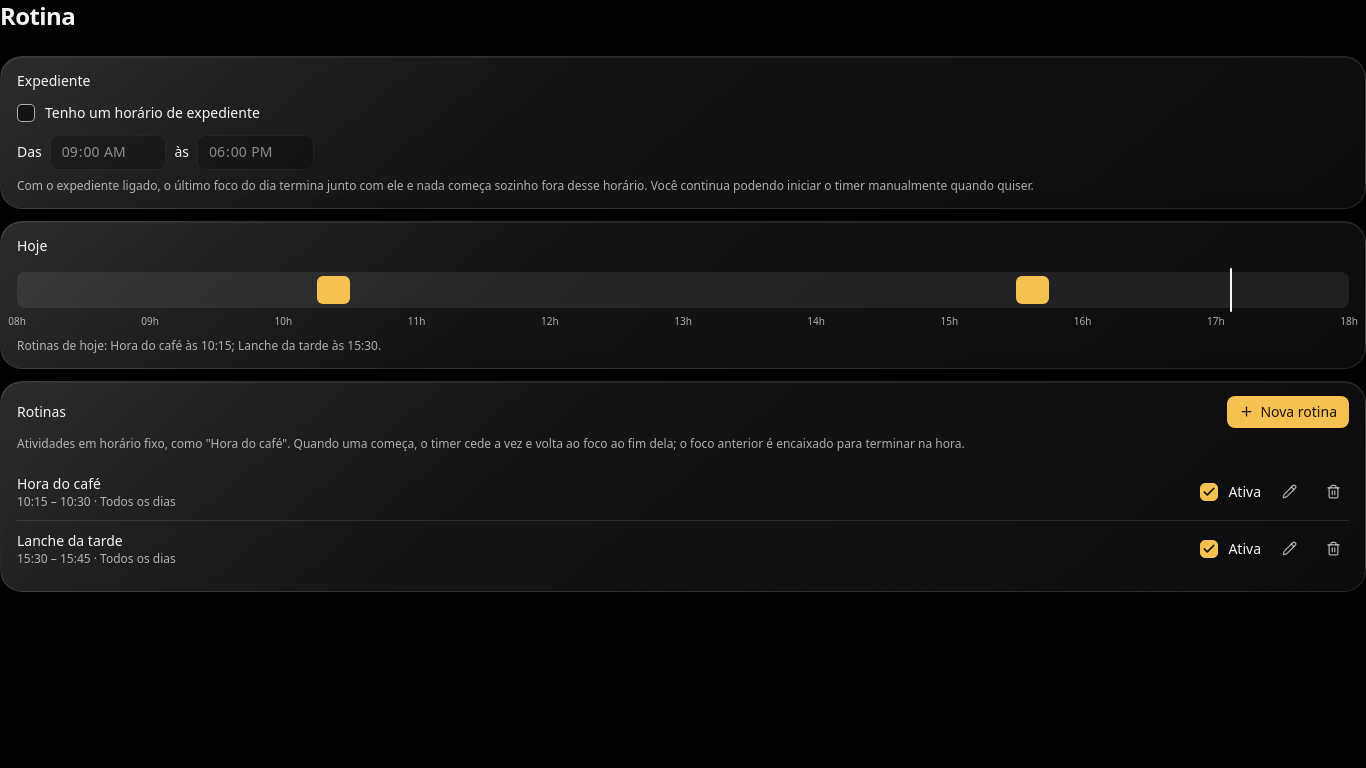
Test: RoutinesPage › cria uma rotina pelo diálogo
Click the button "Nova rotina".
click(1288, 412)  # box [1227, 396, 1349, 428]
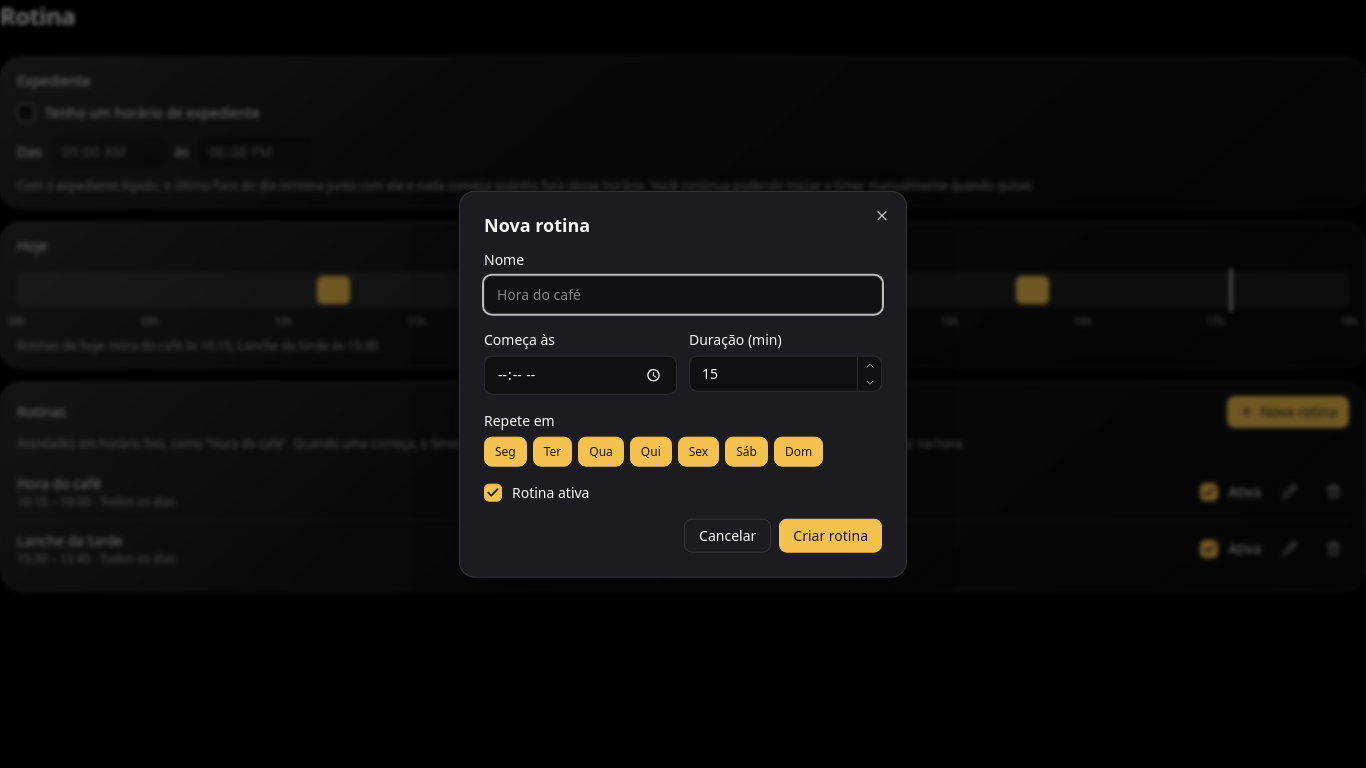
Type " Almoço " into the field labelled "Nome".
click(683, 295); type(" Almoço ")  # box [484, 276, 882, 314]
Type "12:00" into the time field labelled "Começa às".
click(580, 375); type("12:00")  # box [484, 356, 677, 394]
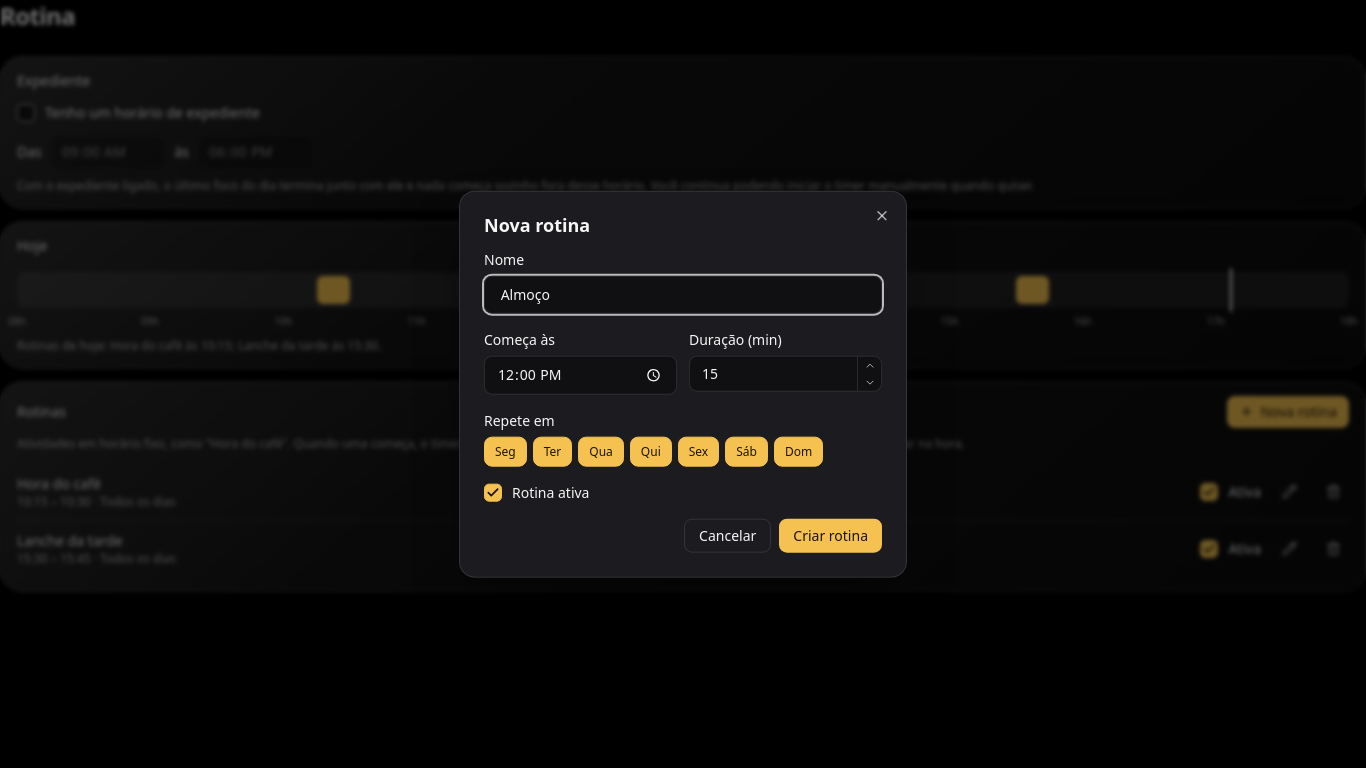
Replace the text in the number field labelled "Duração (min)" with "60" at x=774, y=374, box [690, 357, 857, 391]
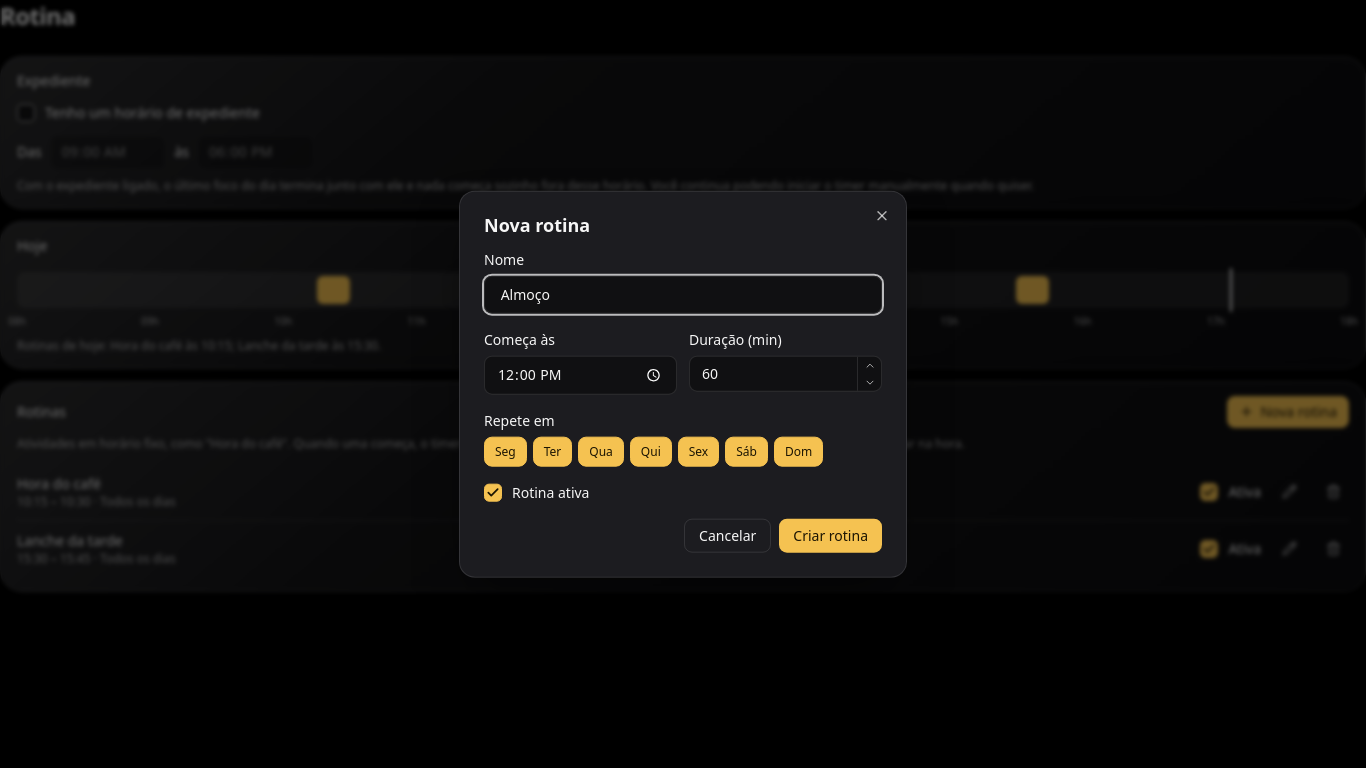
# Só em dias úteis: desliga sábado e domingo.
Click the button with aria-label "Sábado".
click(747, 451)  # box [725, 436, 768, 466]
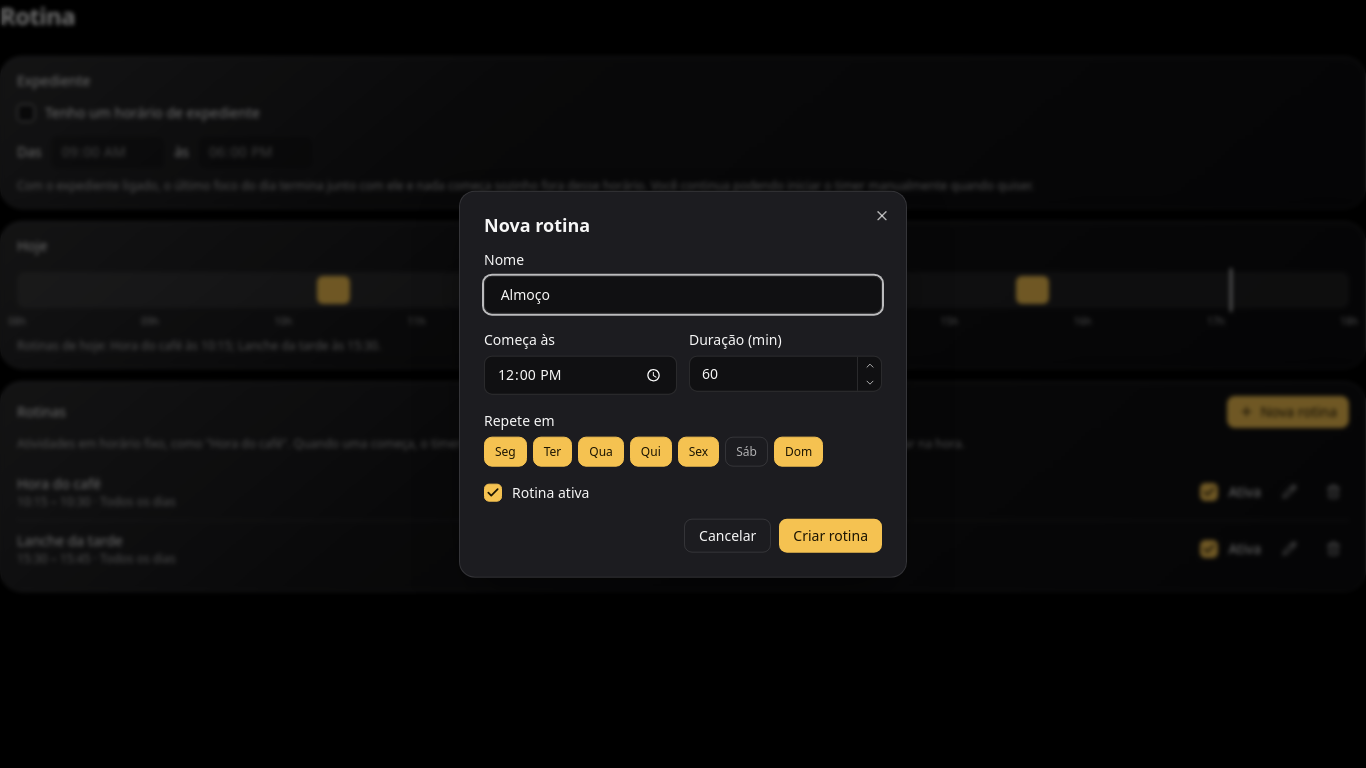
Click the button with aria-label "Domingo".
click(799, 451)  # box [774, 436, 823, 466]
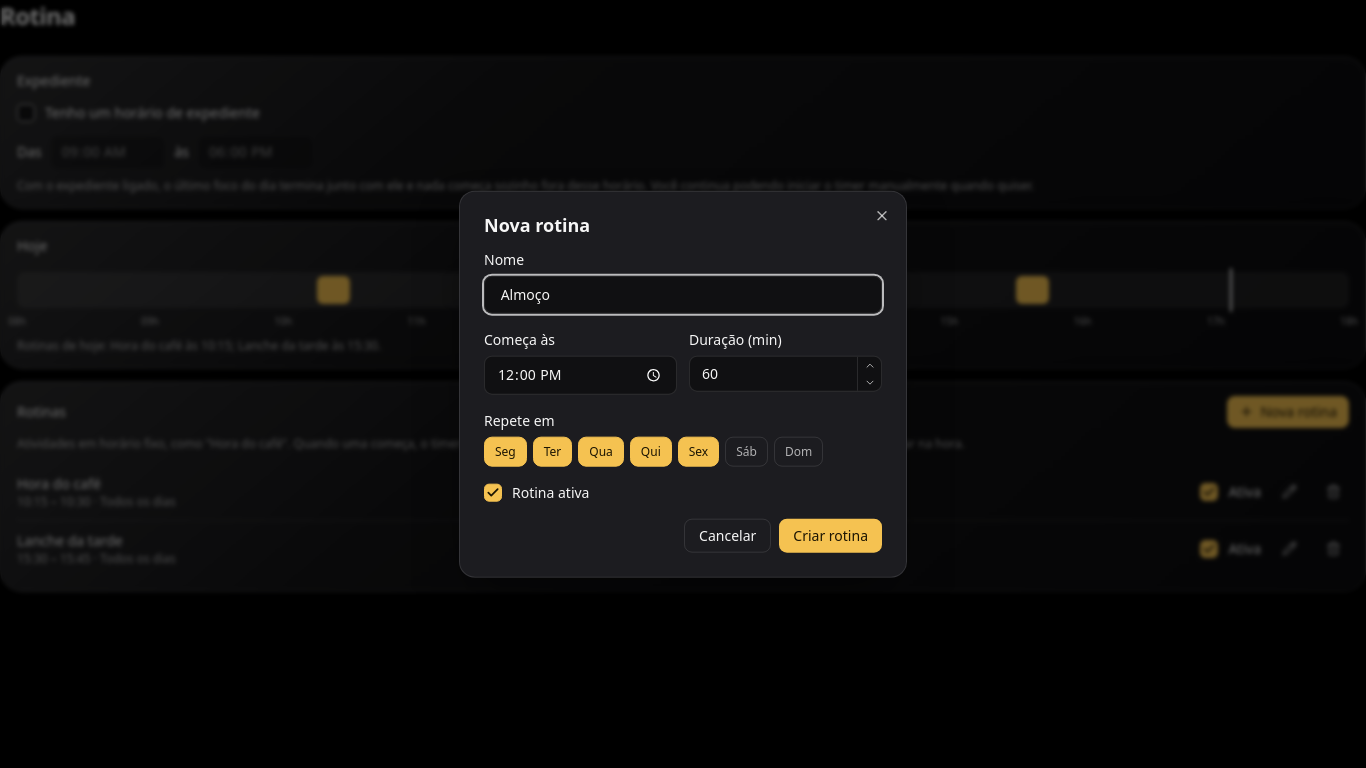
Click the button "Criar rotina".
click(831, 535)  # box [779, 518, 882, 552]
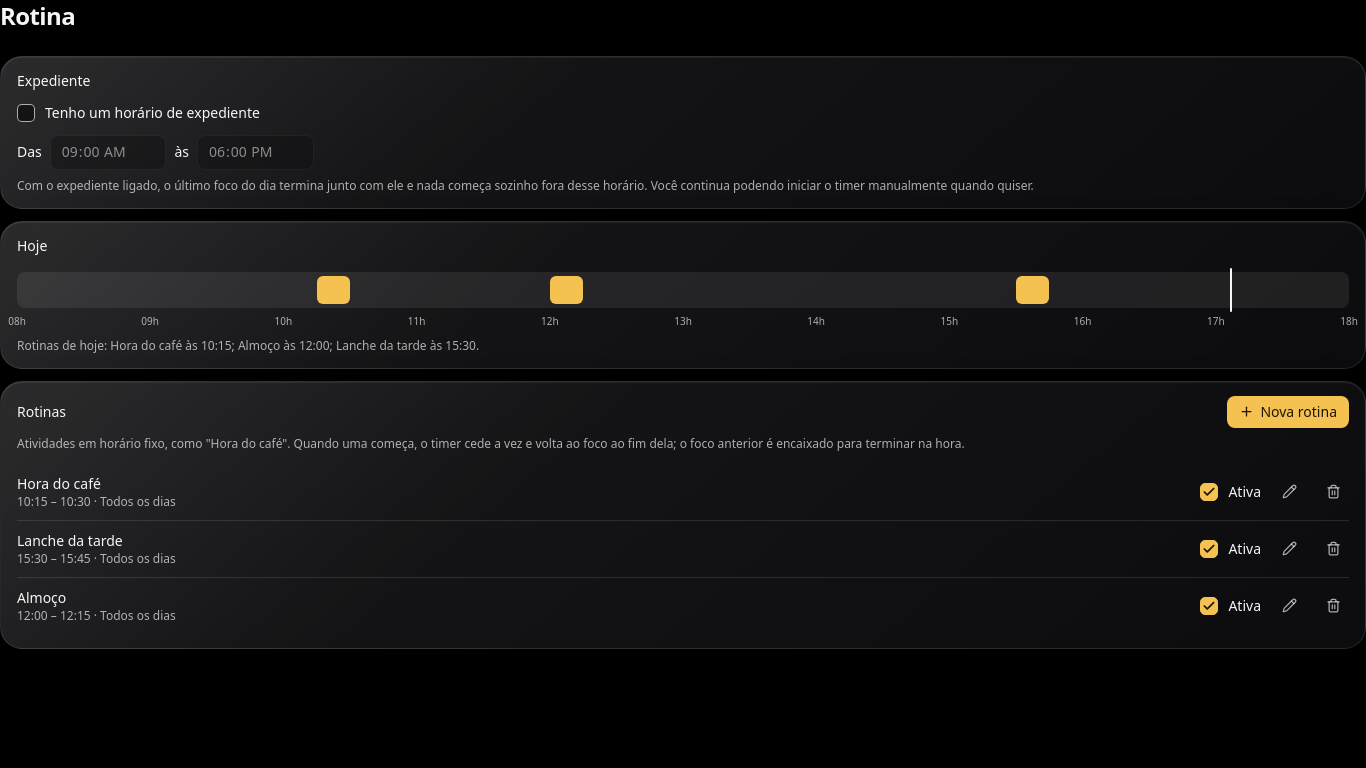
Expected: the dialog is gone
Expected: the list named "Rotinas cadastradas" shows "Almoço", [17, 588, 66, 607]
